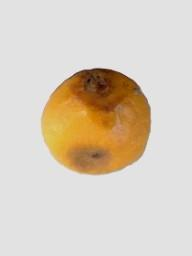Unripe: (40, 68, 150, 176)
